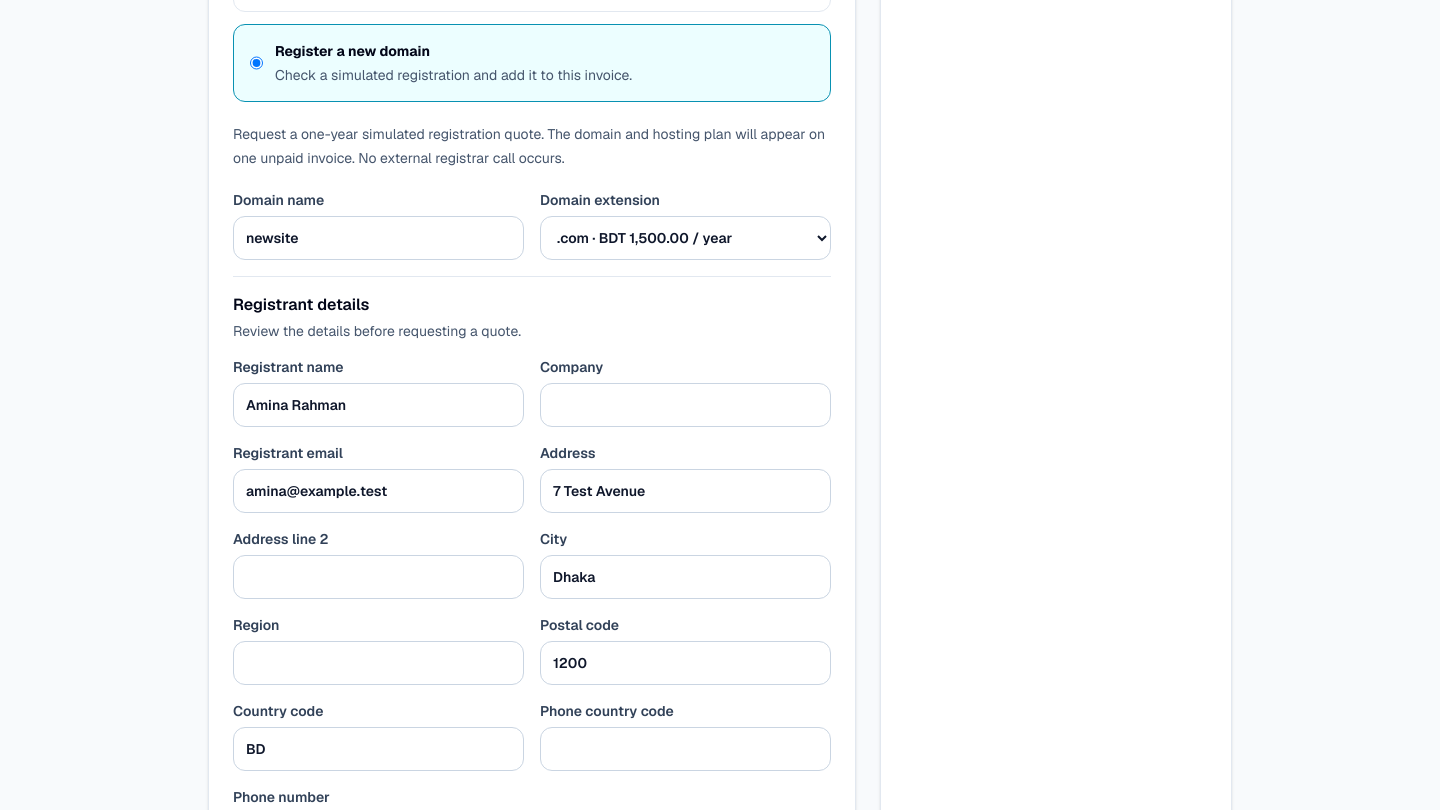
Test: order interfaces › quotes a simulated new domain and adds it to the hosting order on one invoice
The width and height of the screenshot is (1440, 810).
(page scrolled)
Expected: the field labelled "Domain name" holds "newsite", [233,216,524,260]
Expected: the field labelled "Registrant name" holds "Amina Rahman", [233,383,524,427]
Type "Example Studio" into the field labelled "Company" at (686, 405), box [540,383,831,427]
Type "Dhaka" into the field labelled "Region" at (378, 663), box [233,641,524,685]
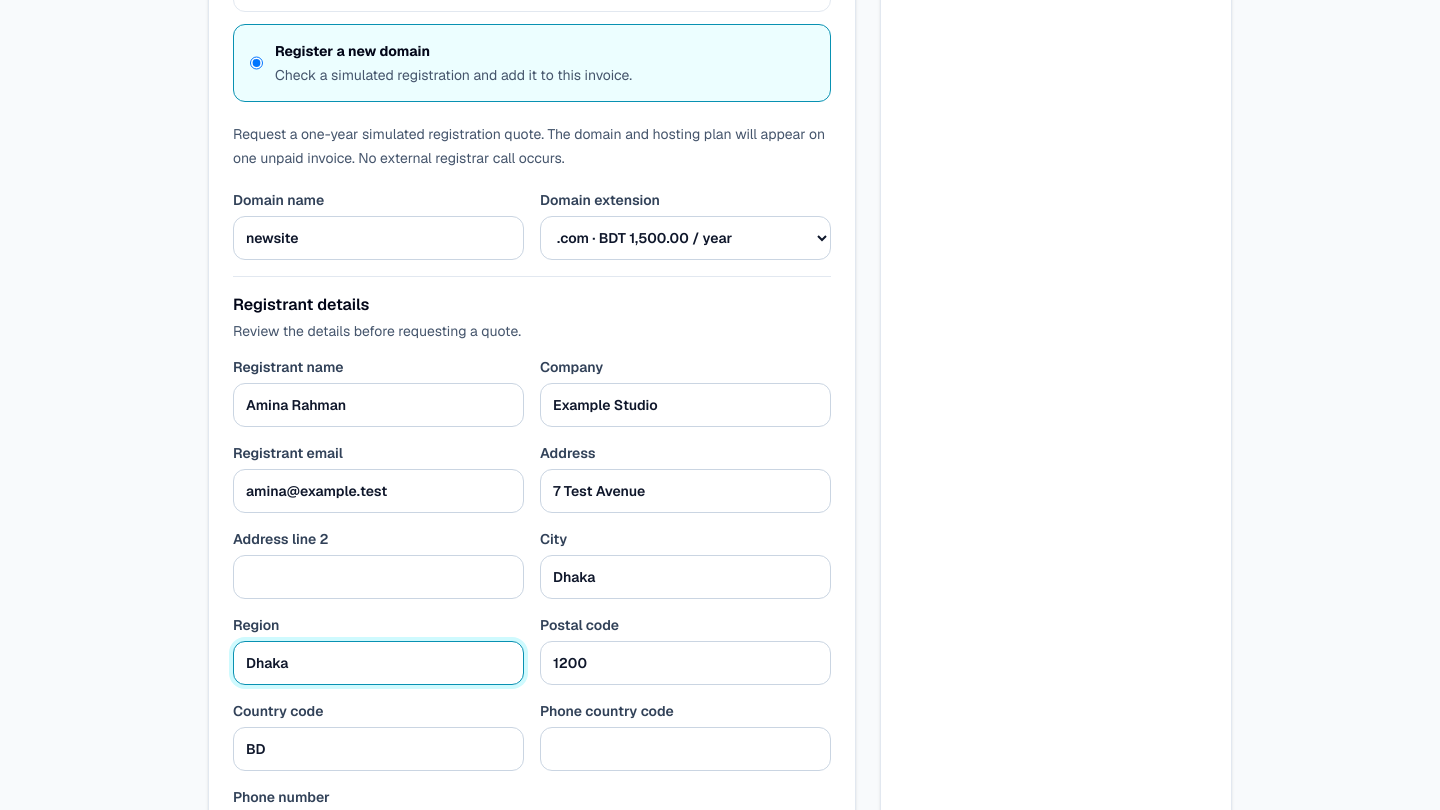
Type "880" into the field labelled "Phone country code" at (686, 749), box [540,727,831,771]
(page scrolled)
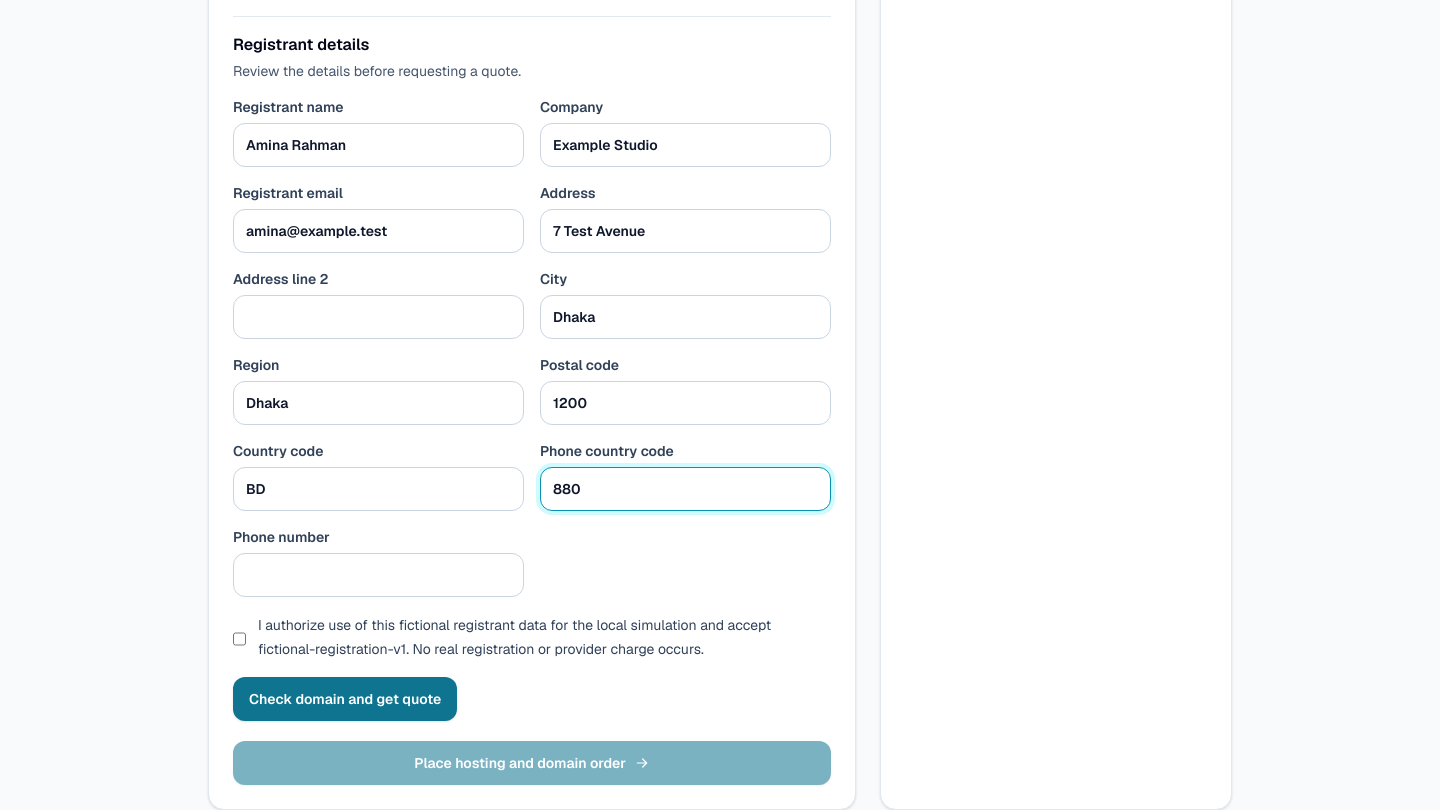
Type "1712345678" into the field labelled "Phone number" at (378, 575), box [233,553,524,597]
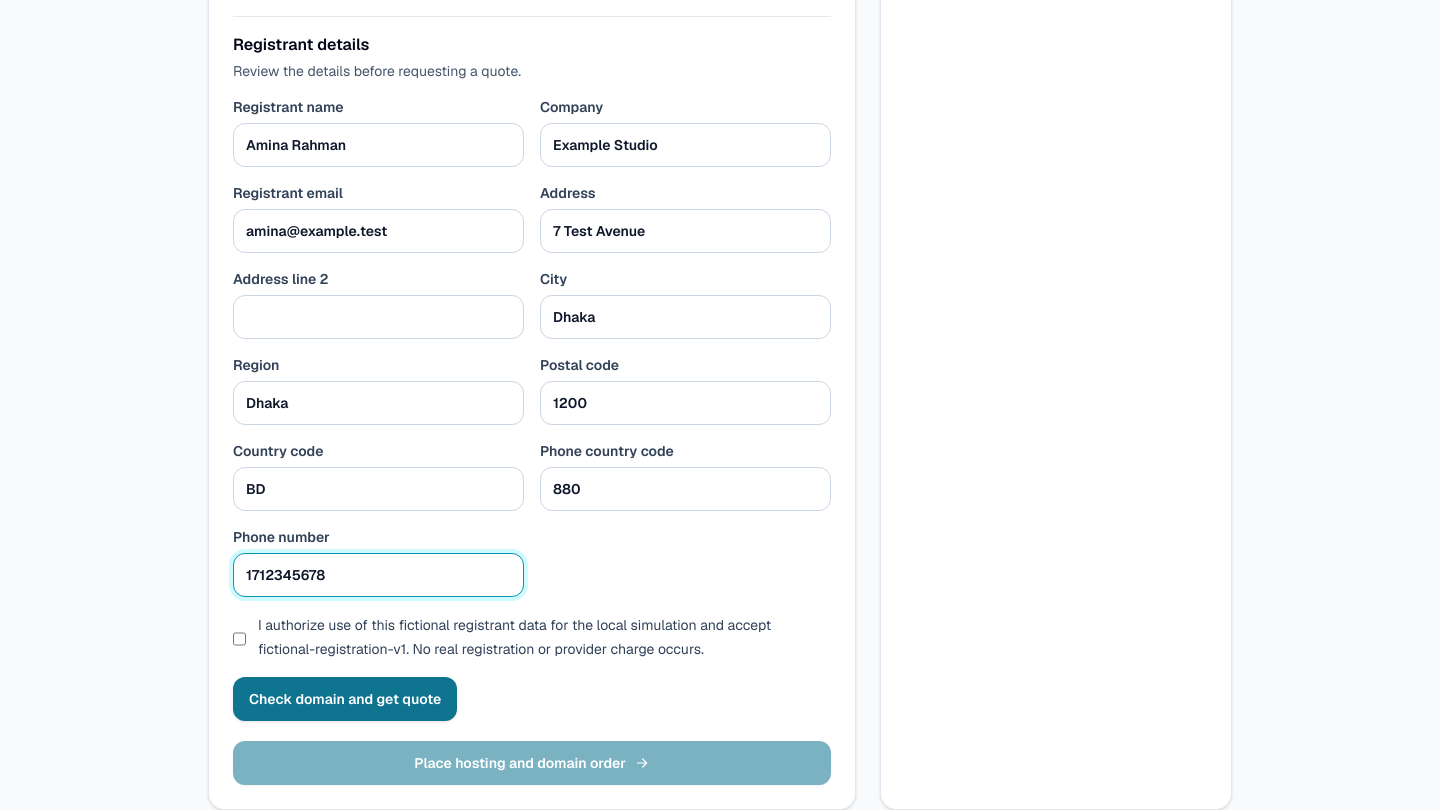
Click the checkbox at (240, 639), box [233,617,246,661]
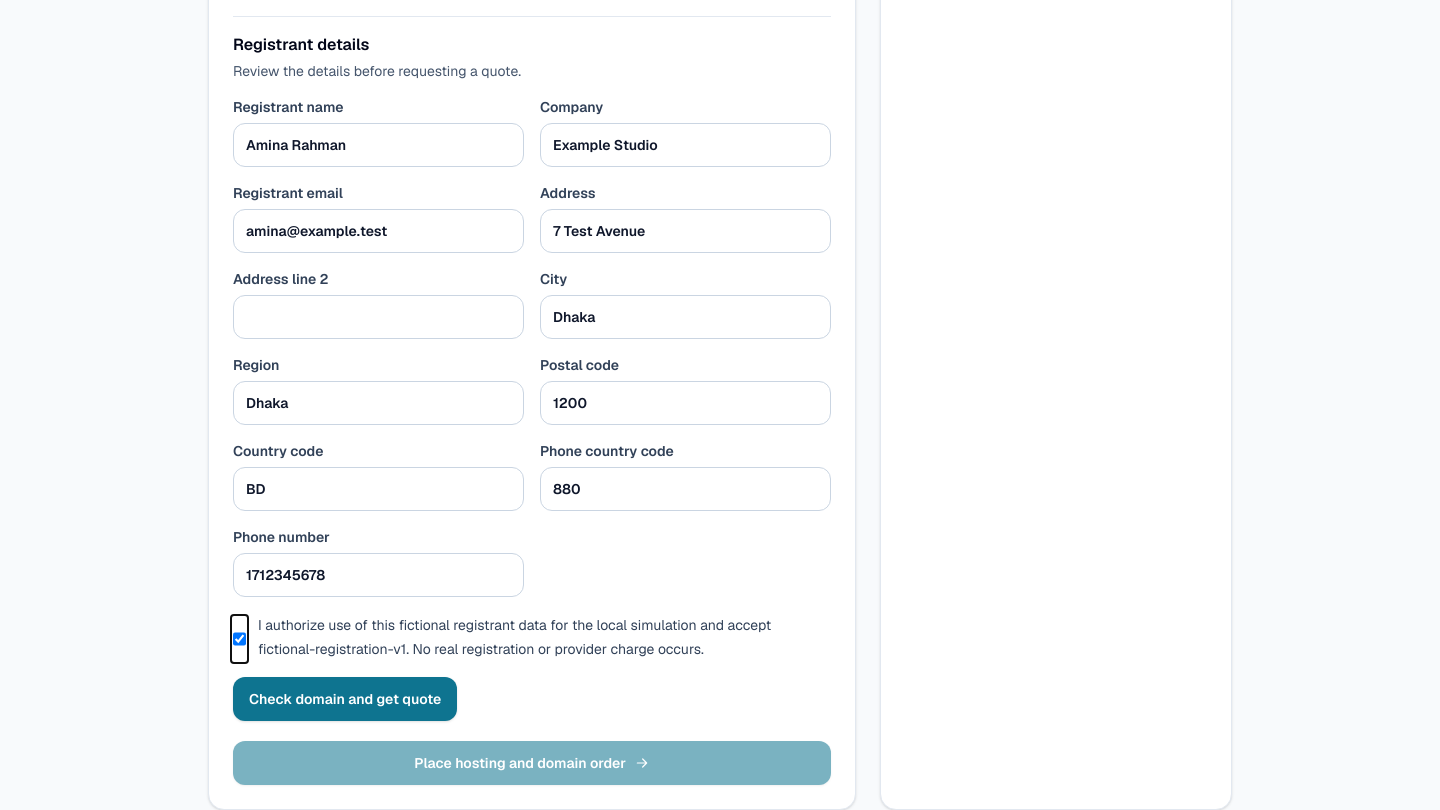
Click the button "Check domain and get quote" at (345, 699), box [233,677,457,721]
(page scrolled)
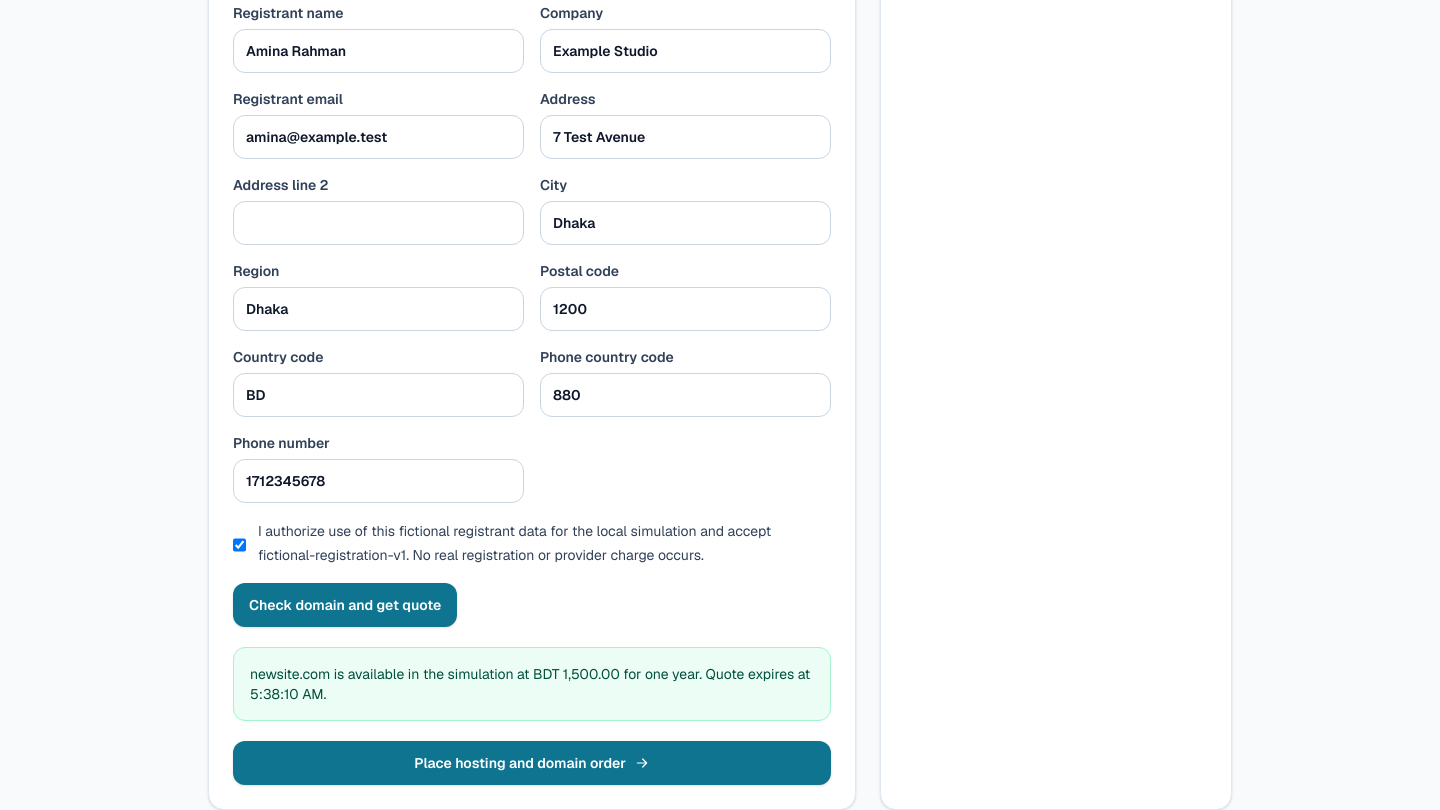
Expected: the text "newsite.com is available in the simulation" is shown, [233,647,831,721]
Click the button "Place hosting and domain order" at (532, 763), box [233,741,831,785]
(page scrolled)
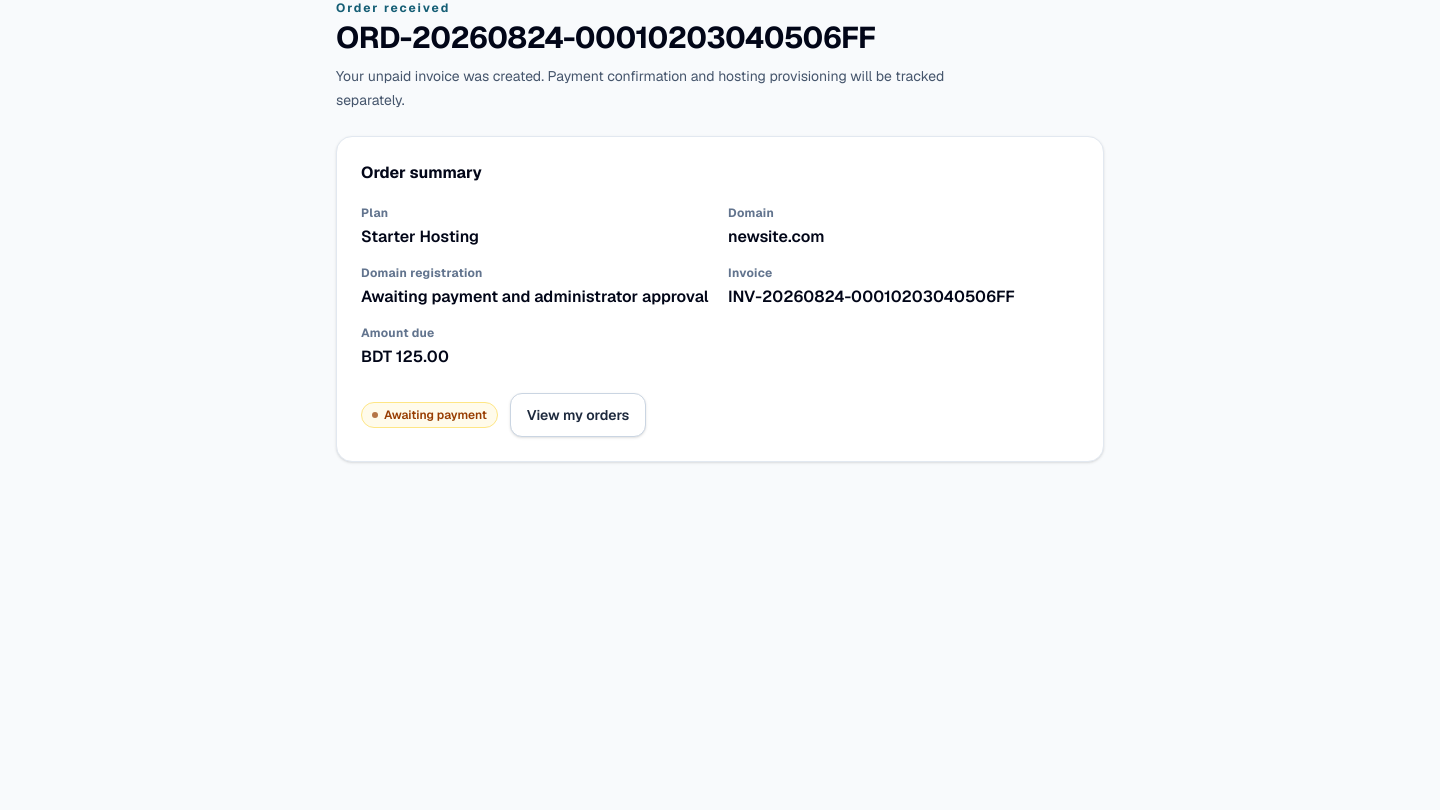
Expected: the text "newsite.com" is shown, [728,226,824,247]
Expected: the heading "ORD-20260824-00010203040506FF" is shown, [336,18,875,57]
Expected: the text "Starter Hosting" is shown, [361,226,479,247]
